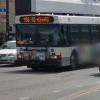buses: (12, 11, 100, 72)
